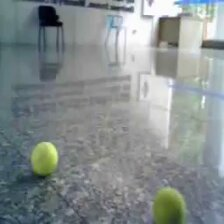tennis: (153, 187, 183, 224), (31, 142, 58, 176)
